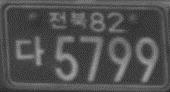2: (106, 11, 128, 35)
5: (53, 34, 79, 81)
7: (79, 34, 104, 83)
8: (88, 11, 105, 33)
9: (135, 36, 161, 84), (107, 36, 132, 82)
다: (13, 35, 44, 67)
전북_O: (48, 10, 88, 30)
